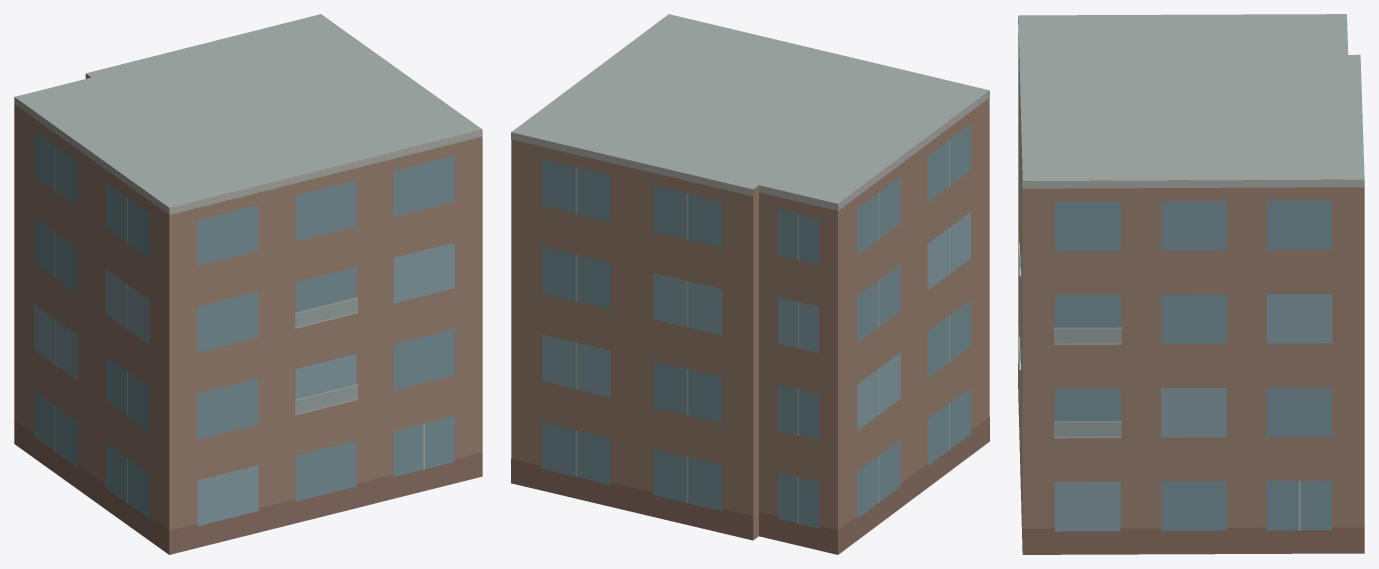
File: survey-upis-32978746.glb
The picture shows the model from 3 angles, left to right: view 1: azimuth 30°, elevation 25°; view 2: azimuth 150°, elevation 25°; view 3: azimuth 270°, elevation 25°; orthographic projection. The views are drawn at different scales.
Visible parts, largest first — view 1: survey-upis-32978746.tmp; view 2: survey-upis-32978746.tmp; view 3: survey-upis-32978746.tmp.
Part boxes in pixels (bbox=[...]): survey-upis-32978746.tmp: bbox=[14, 14, 482, 554]; survey-upis-32978746.tmp: bbox=[511, 14, 989, 554]; survey-upis-32978746.tmp: bbox=[1018, 14, 1364, 554].
Size of the model in its own units: 11.54 by 12 by 10.09.
